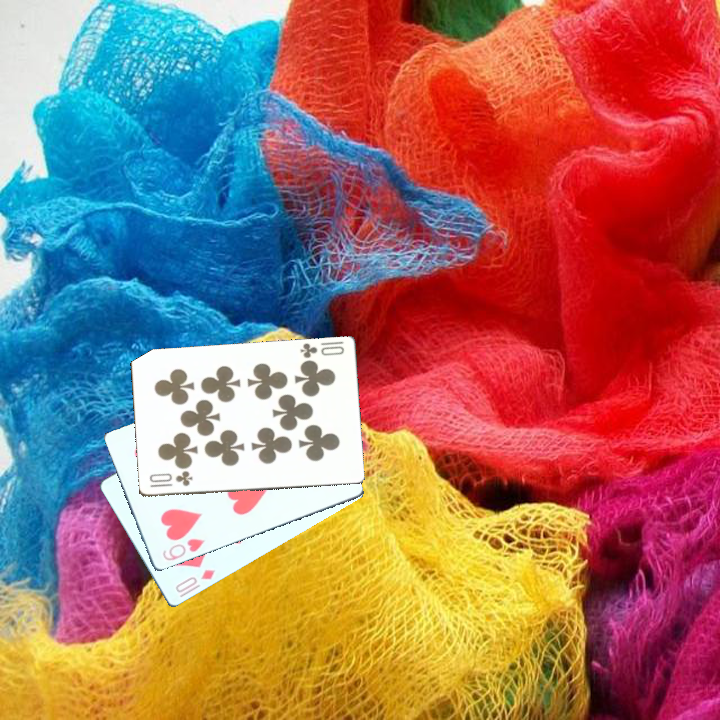10c: (145, 467, 195, 490), (296, 340, 346, 360)
10d: (171, 565, 218, 595)
6h: (158, 534, 207, 563)
